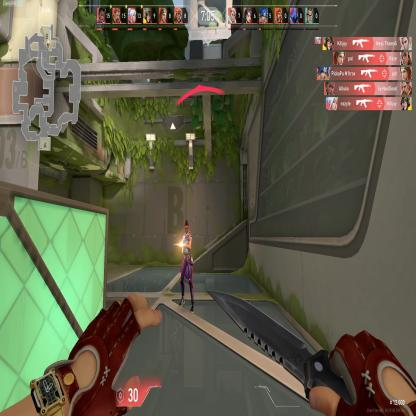enemy: (177, 217, 195, 315)
